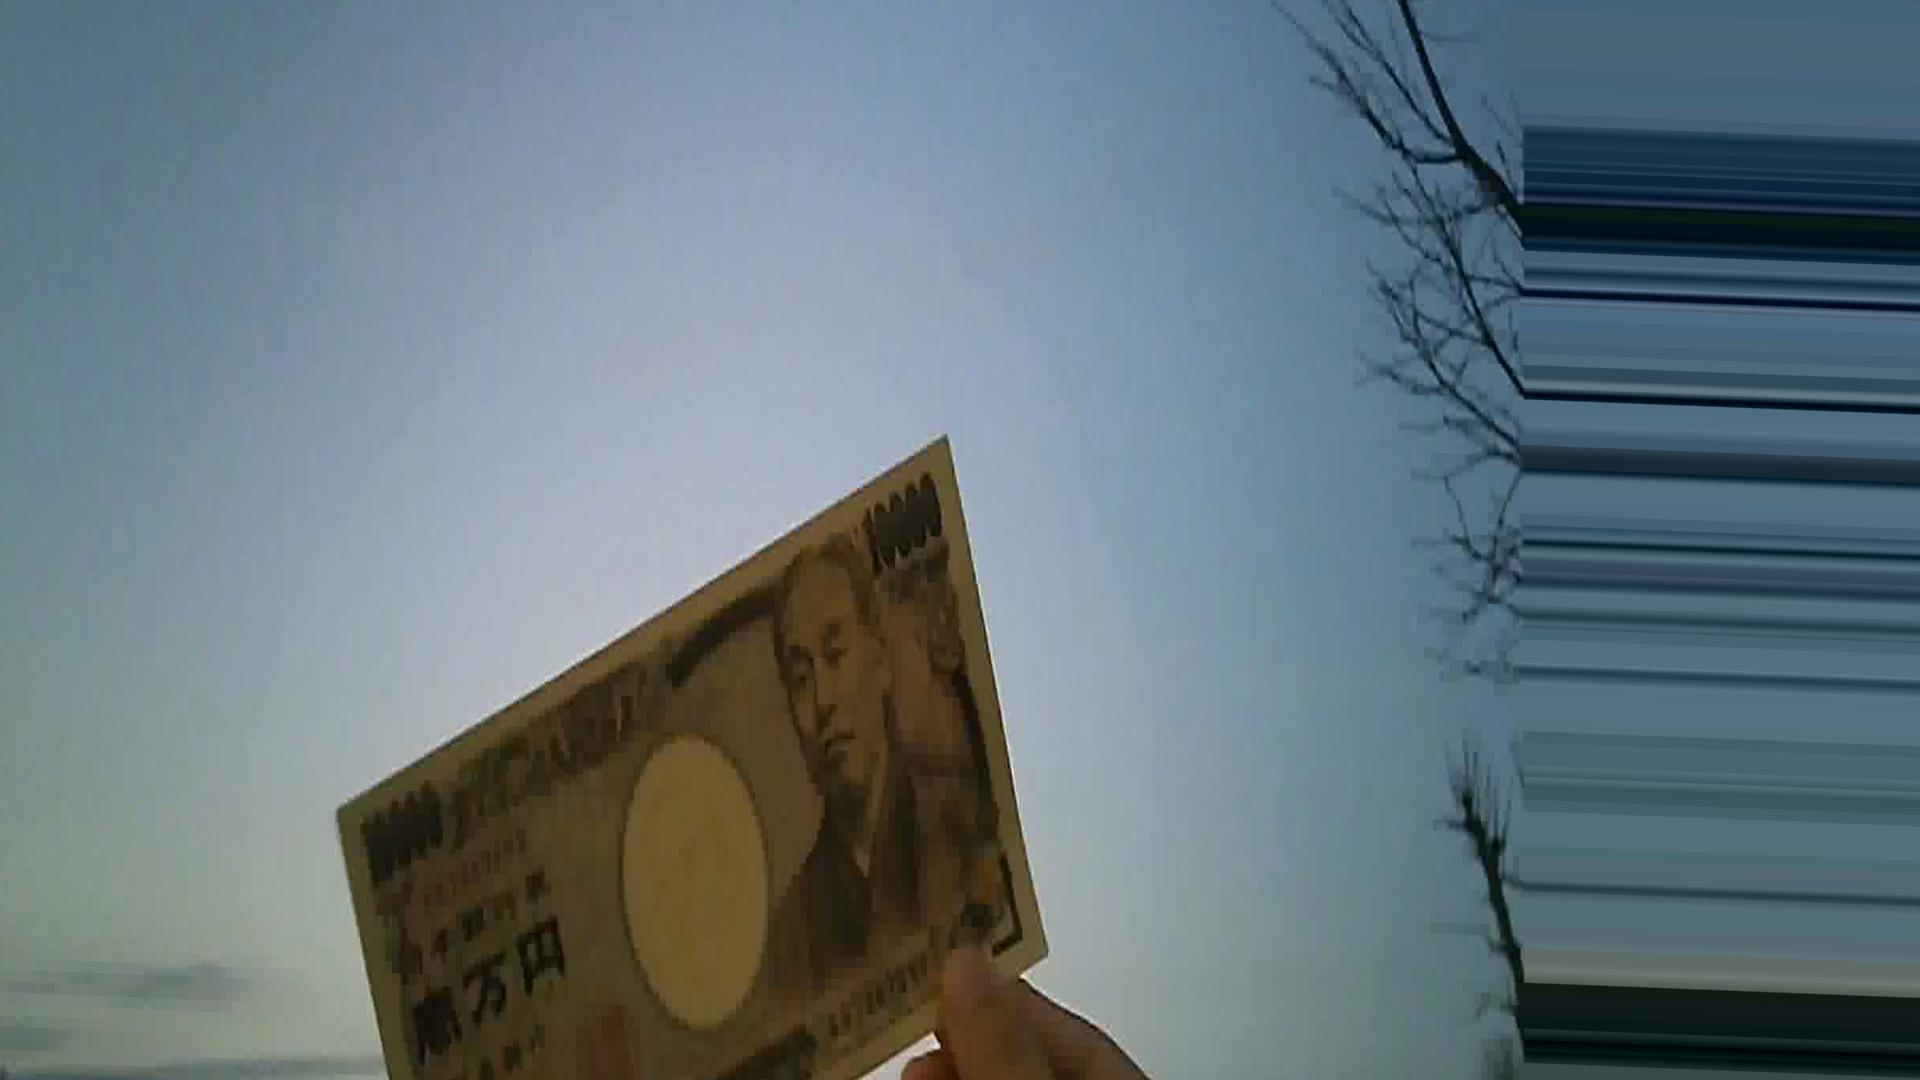10,000 Yen: (284, 415, 1079, 1075)
